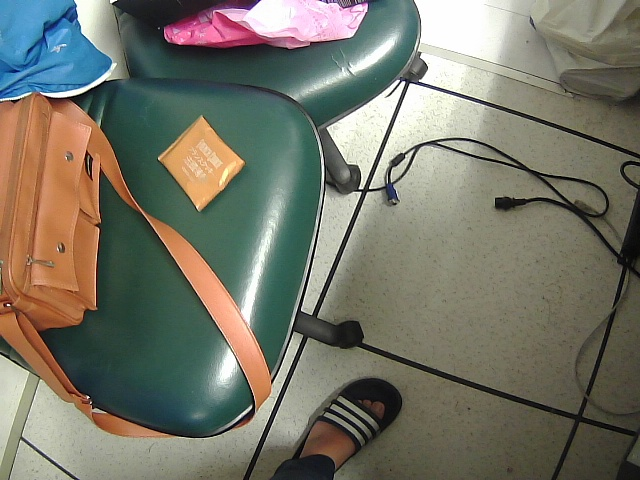frenchcookie: (147, 106, 251, 213)
